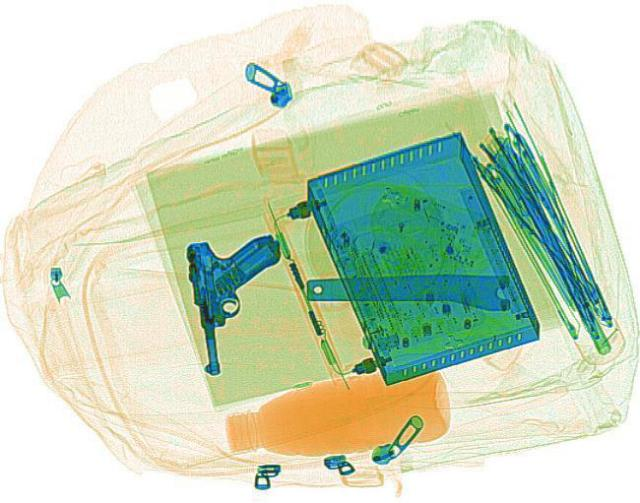Gun: (179, 231, 295, 374)
